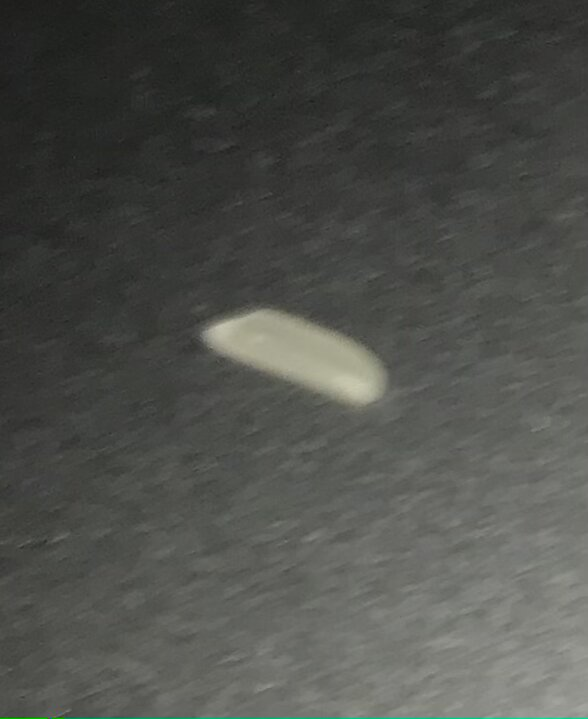Gao Long Lai: (198, 300, 389, 410)
